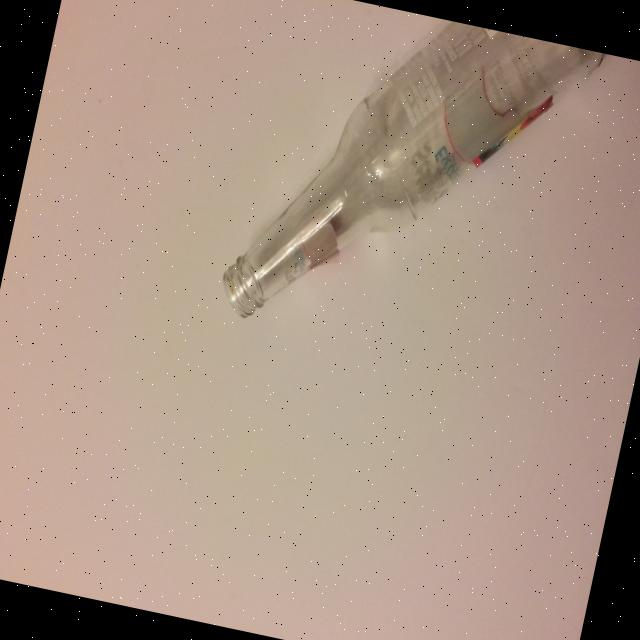glass: (214, 0, 606, 381)
